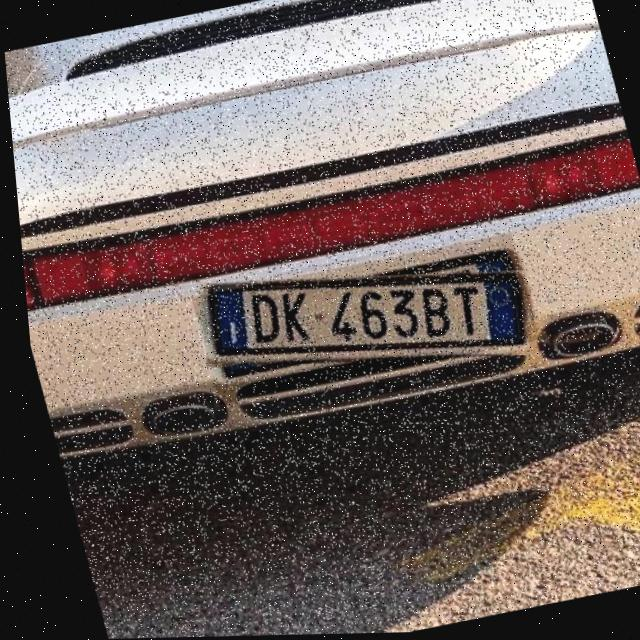LicensePlate: (181, 235, 537, 406)
